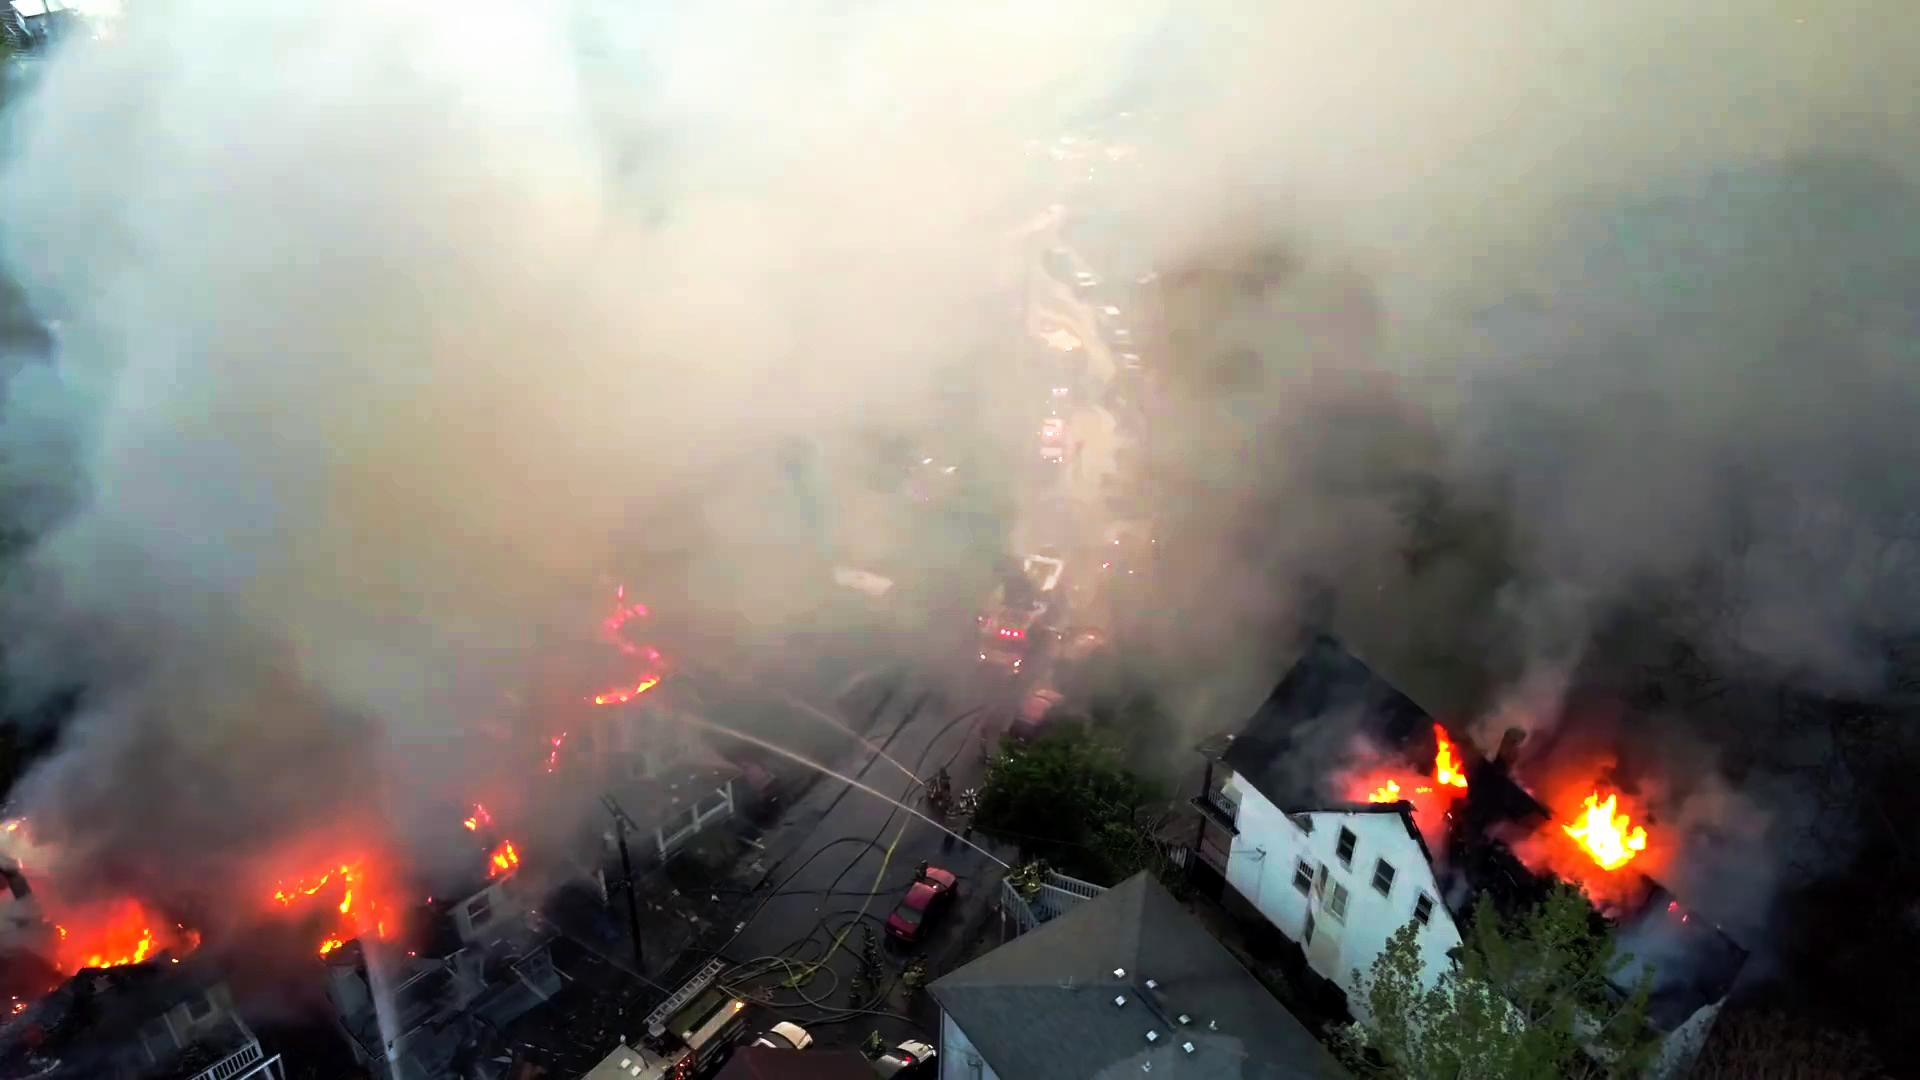fire: (21, 901, 161, 986), (1560, 775, 1660, 870), (272, 848, 357, 943), (458, 806, 527, 881), (1436, 720, 1482, 793)
smoke: (0, 0, 1908, 583)
